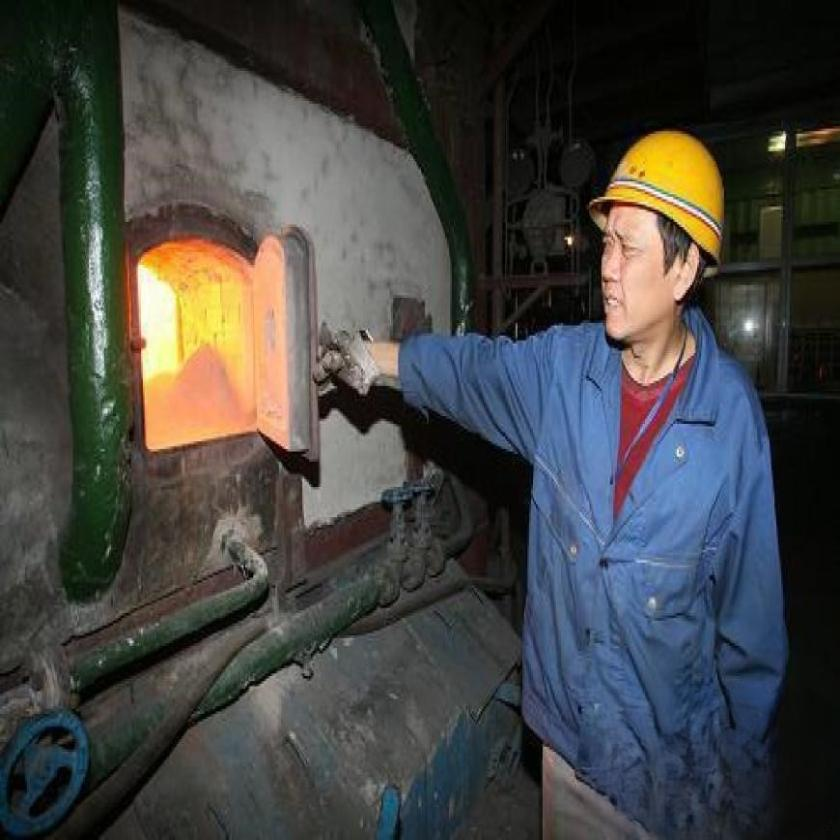Con_casco: (580, 122, 732, 345)
